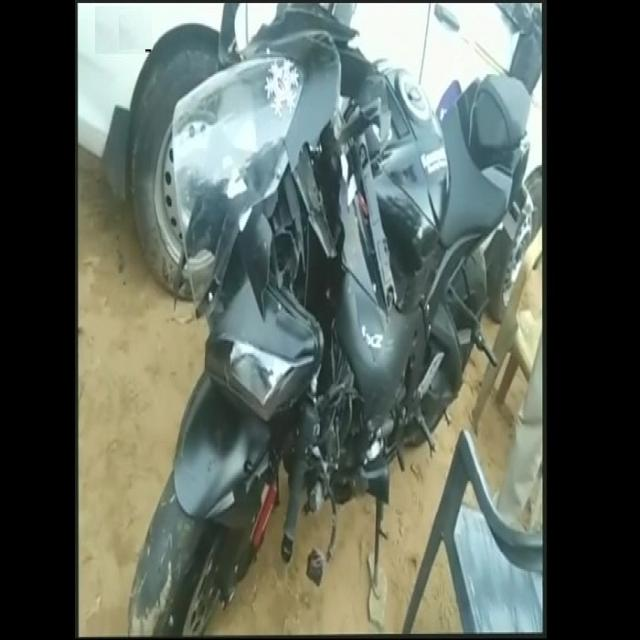accident: (130, 6, 530, 634)
